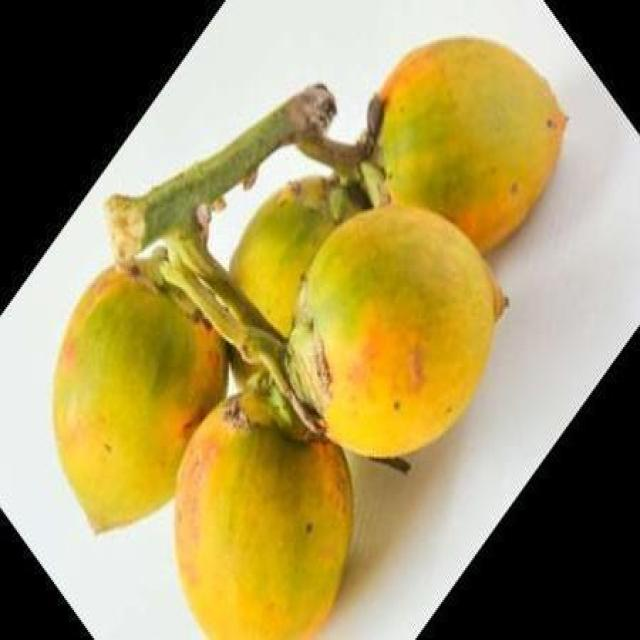good: (290, 203, 506, 463), (50, 265, 226, 536), (371, 36, 569, 257), (175, 405, 354, 638), (229, 179, 348, 337)
